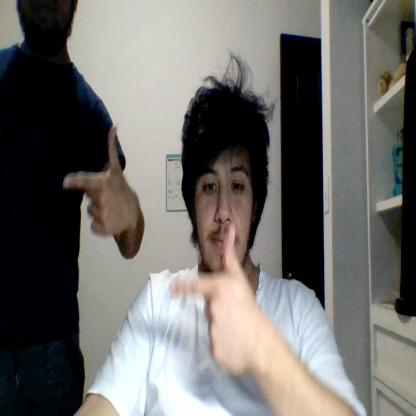G: (169, 223, 253, 372), (64, 126, 129, 235)
